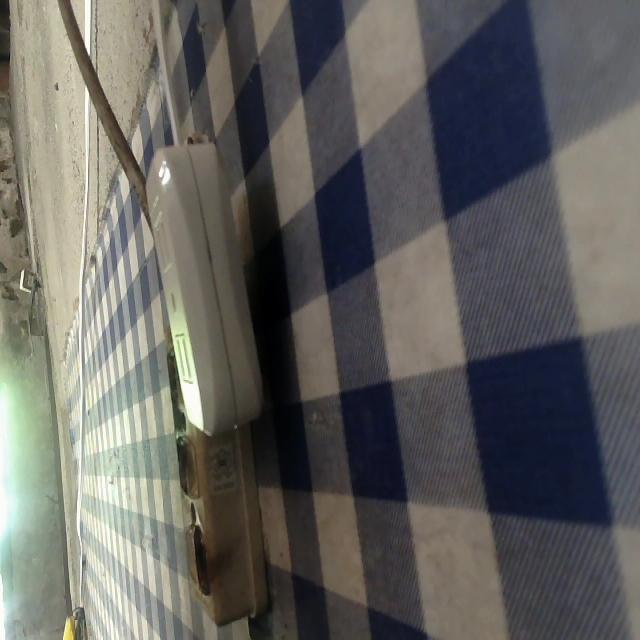-: (190, 524, 219, 601), (171, 431, 193, 500), (164, 351, 182, 424)
